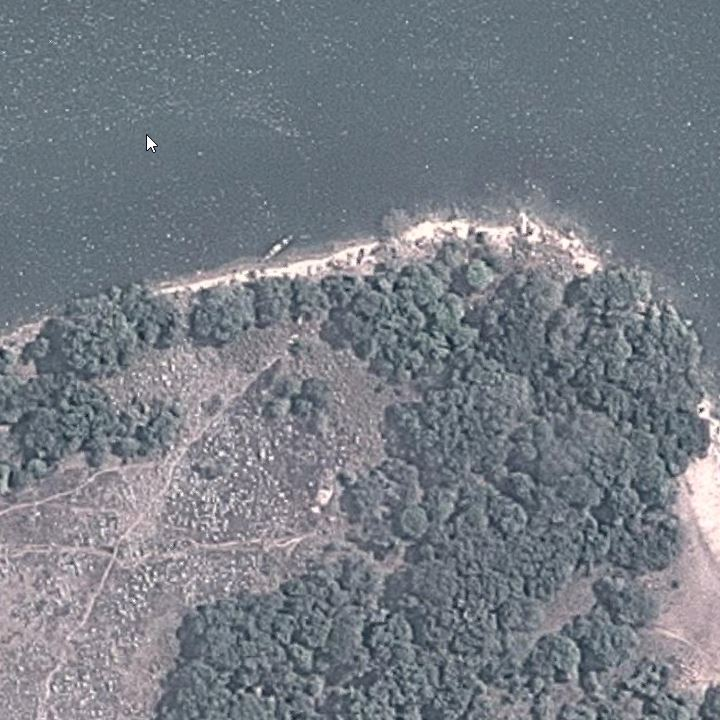boat: (254, 228, 303, 265)
